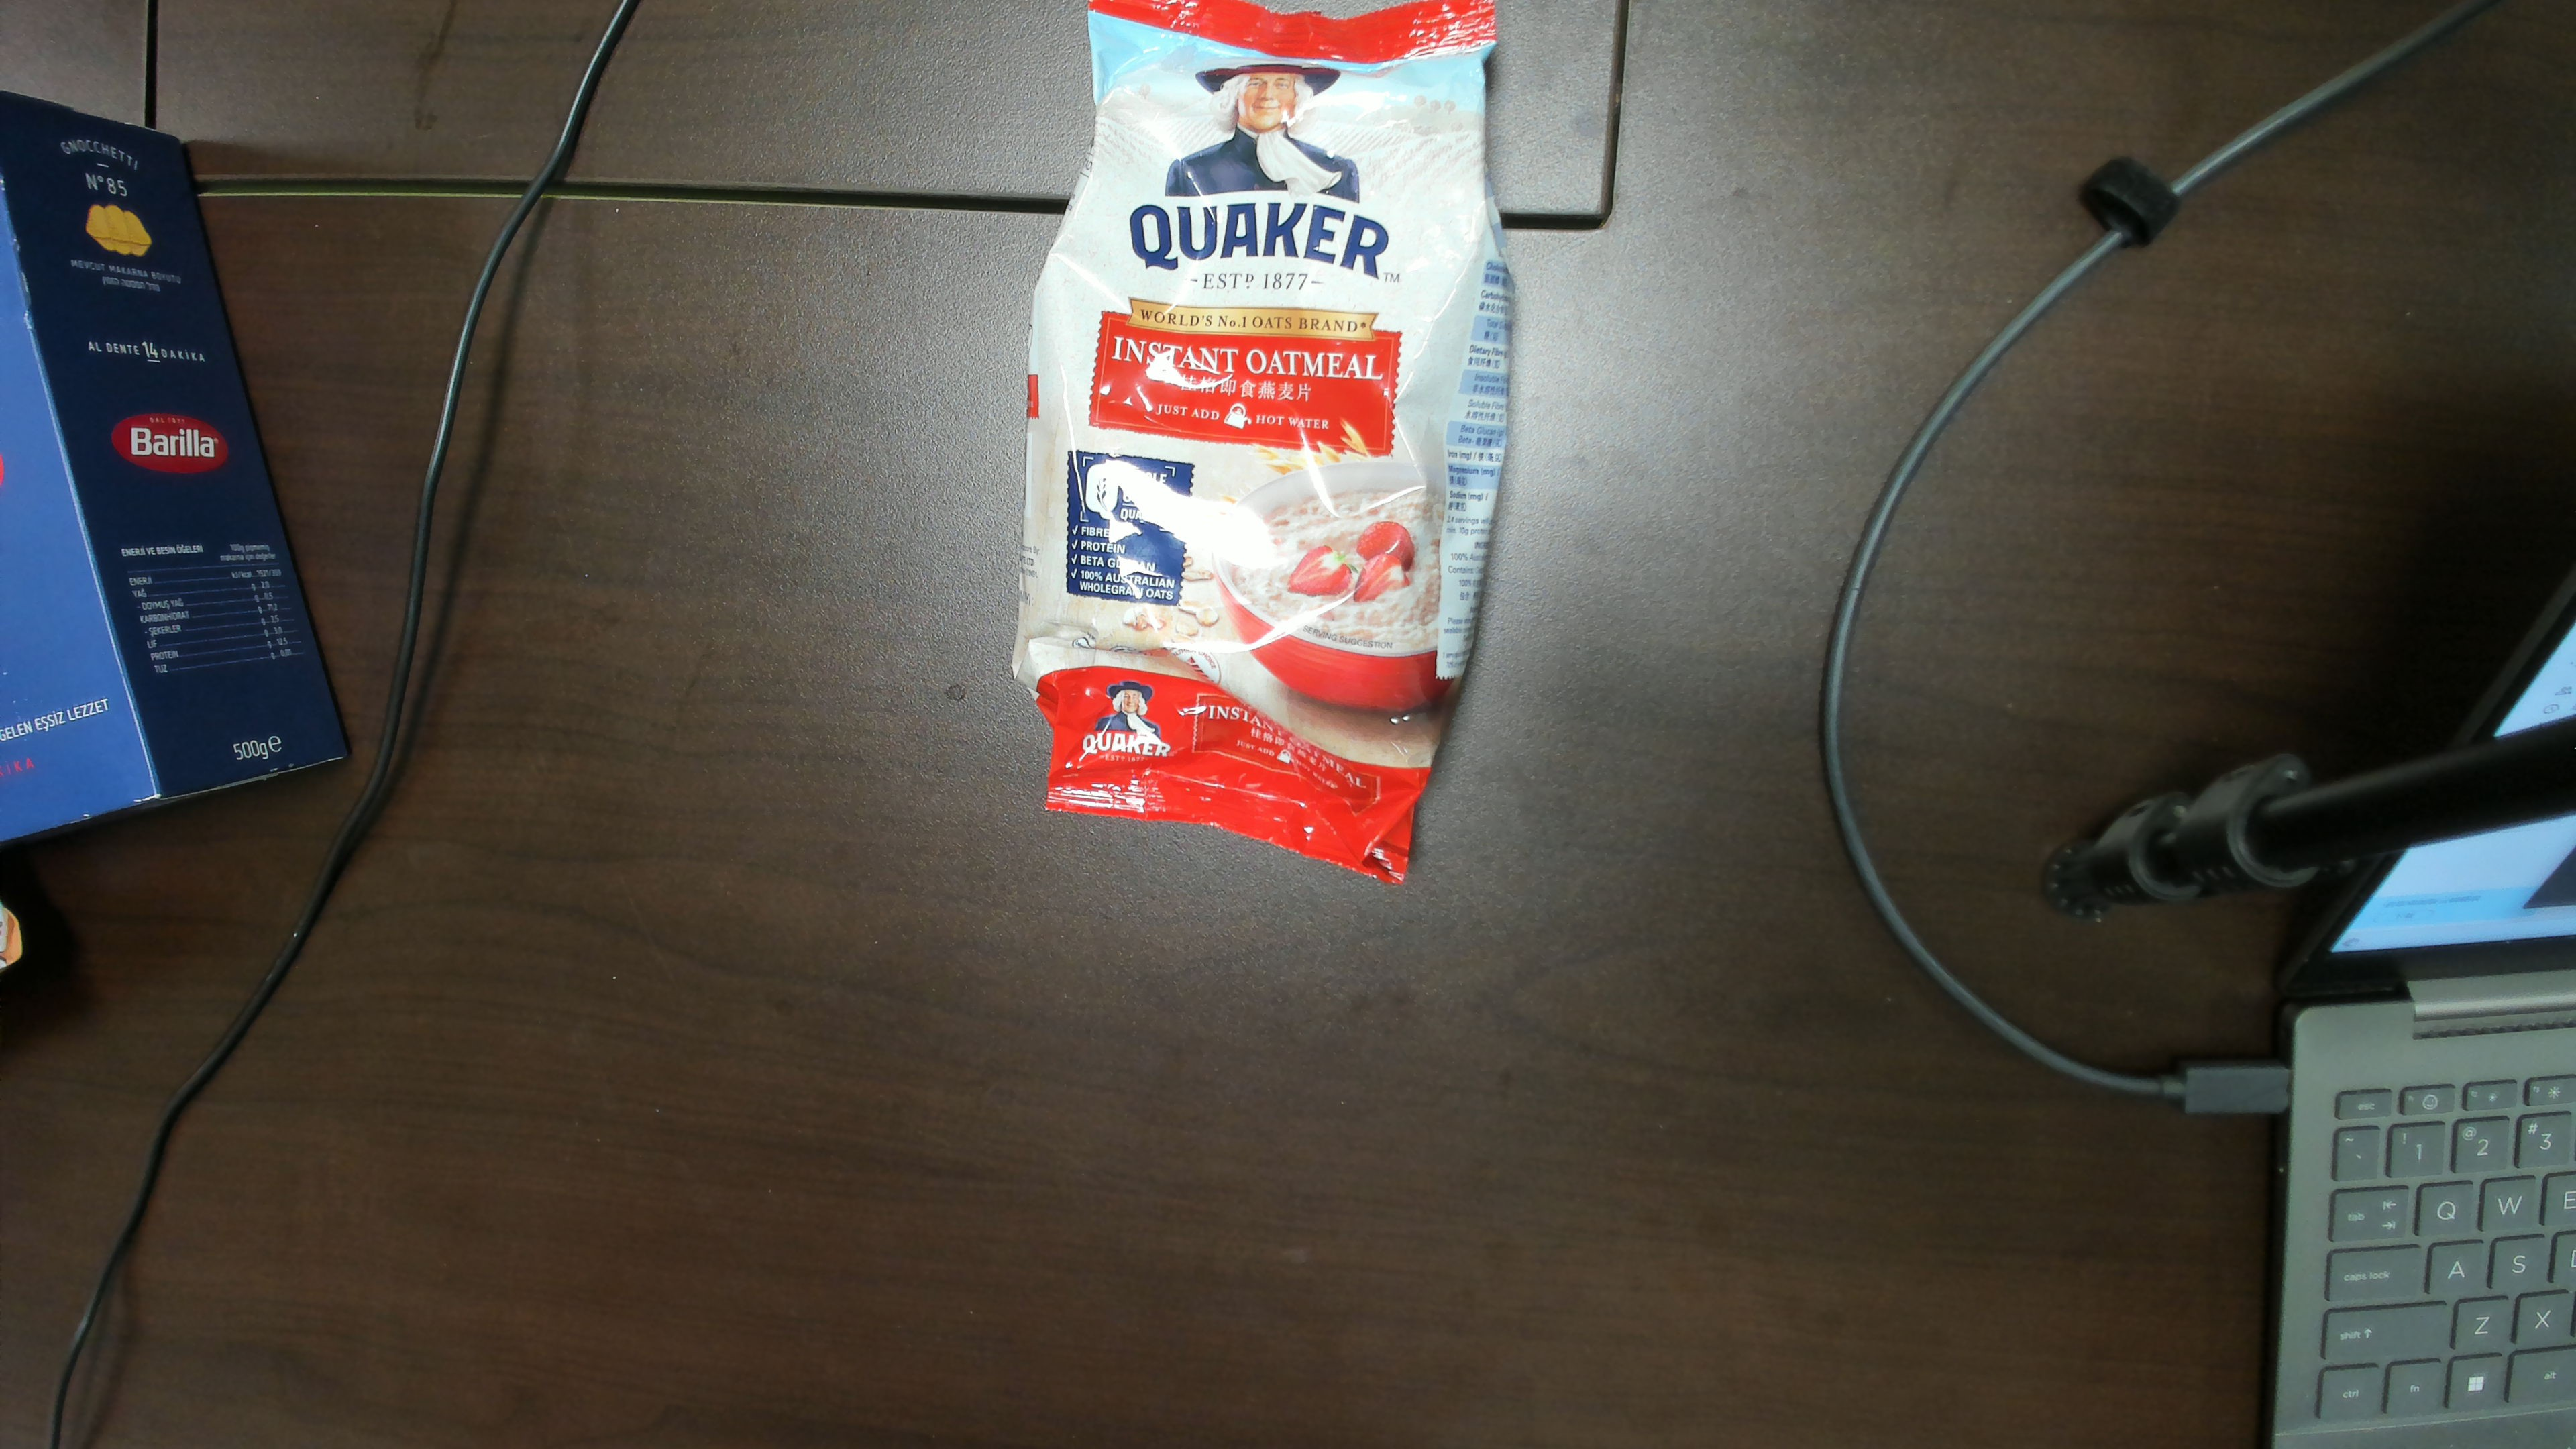RolledOatsInstantOatmeal_400-499g_Halal_Healthy: (1053, 25, 1507, 821)
